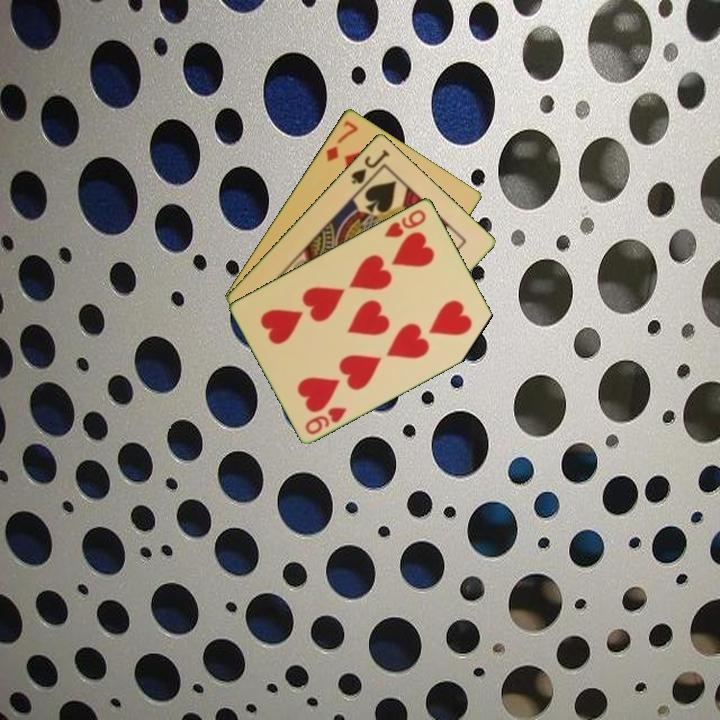7d: (322, 117, 361, 164)
9h: (381, 205, 429, 240), (302, 403, 350, 437)
Js: (347, 145, 393, 187)
